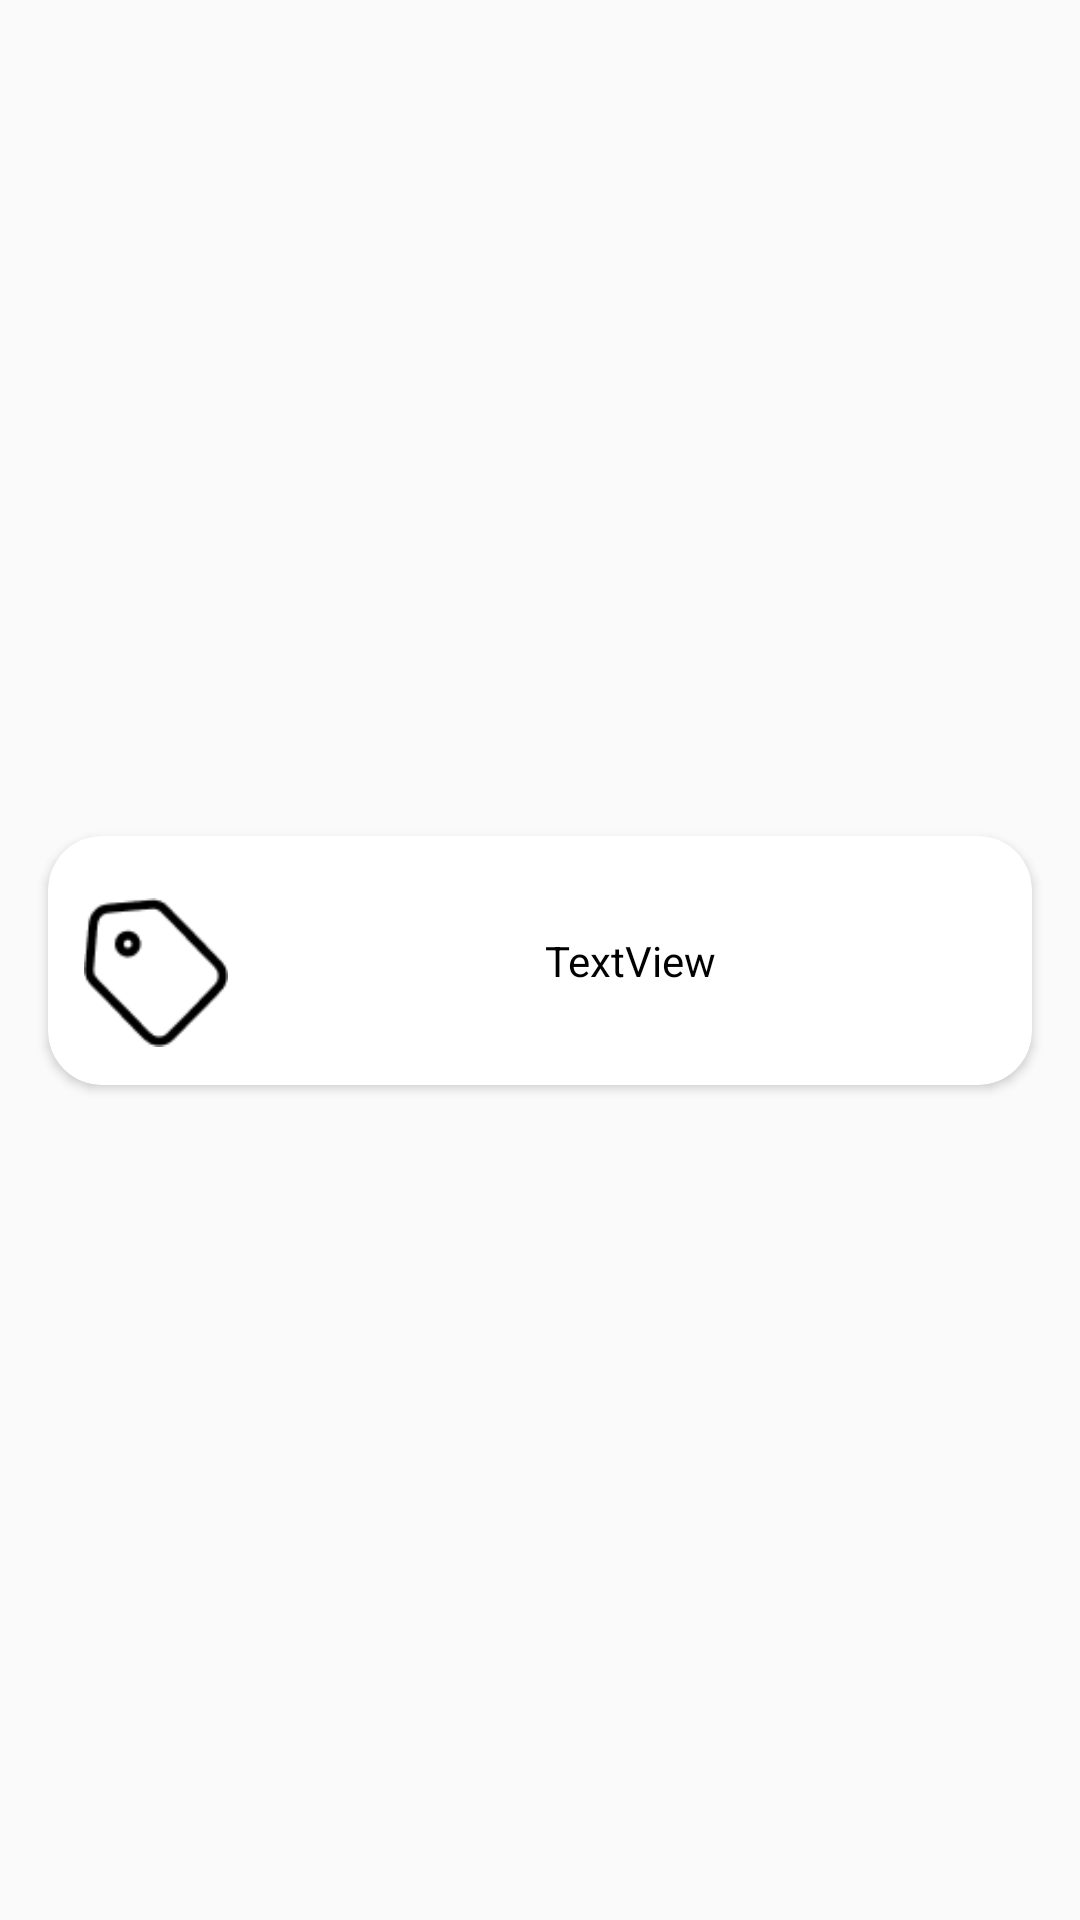

Named icons in this screenshot (1080×1920) and their bounding boxes, (x1, y1, x2, y2):
tag: (84, 898, 228, 1047)
